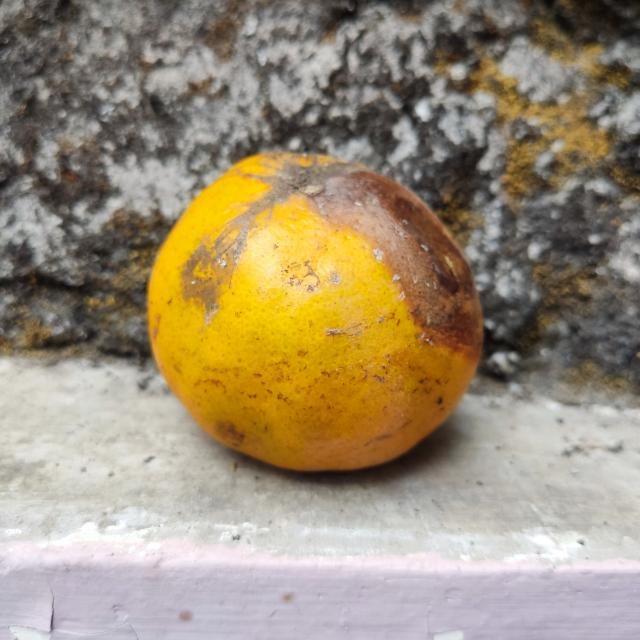orange: (145, 151, 481, 472)
